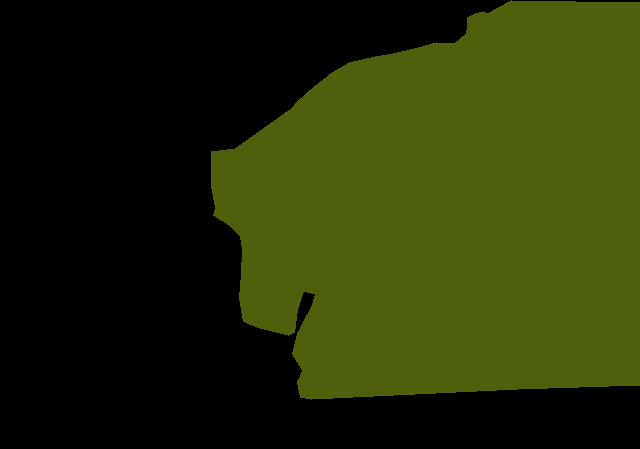Train: (211, 0, 640, 399)
